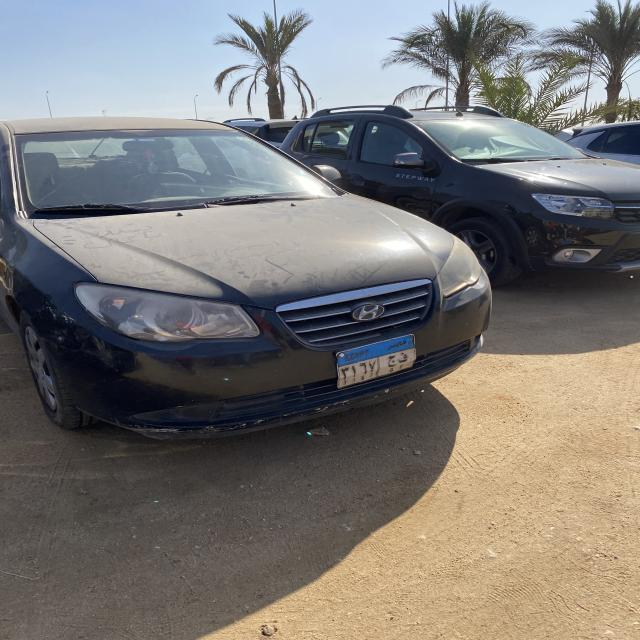License Plate: (336, 334, 417, 389)
